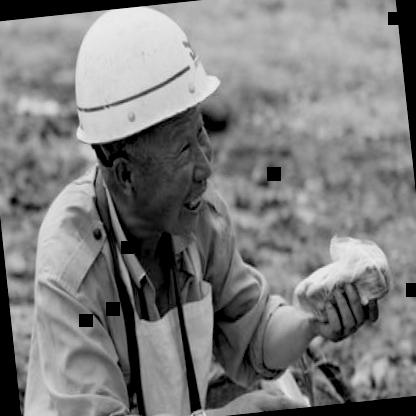helmet: (52, 0, 245, 254)
